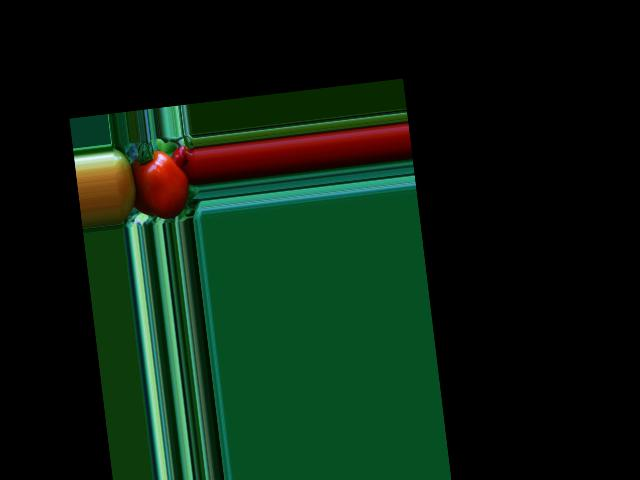tomato: (130, 147, 192, 222)
